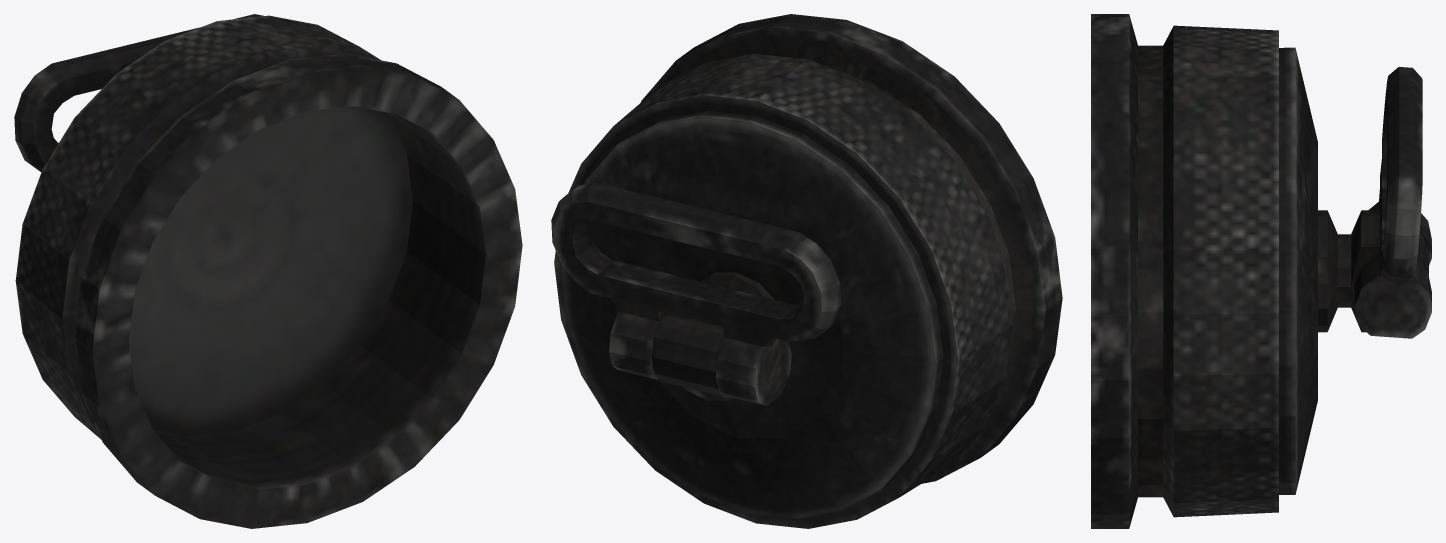
The picture shows the model from 3 angles, left to right: view 1: azimuth 30°, elevation 25°; view 2: azimuth 150°, elevation 25°; view 3: azimuth 270°, elevation 25°; orthographic projection. The views are drawn at different scales.
Parts seen in each view (by area): view 1: TW_5f647d9f8499b57dc40ddb93_PZ_Import; view 2: TW_5f647d9f8499b57dc40ddb93_PZ_Import; view 3: TW_5f647d9f8499b57dc40ddb93_PZ_Import.
Boxes of the visible parts, <box> form: TW_5f647d9f8499b57dc40ddb93_PZ_Import: <box>14,14,522,528</box>; TW_5f647d9f8499b57dc40ddb93_PZ_Import: <box>551,14,1062,528</box>; TW_5f647d9f8499b57dc40ddb93_PZ_Import: <box>1091,14,1431,528</box>.
Bounding box in the file's own units: 0.023 × 0.0151 × 0.023.
Materials: 1 (1 with a texture image).
